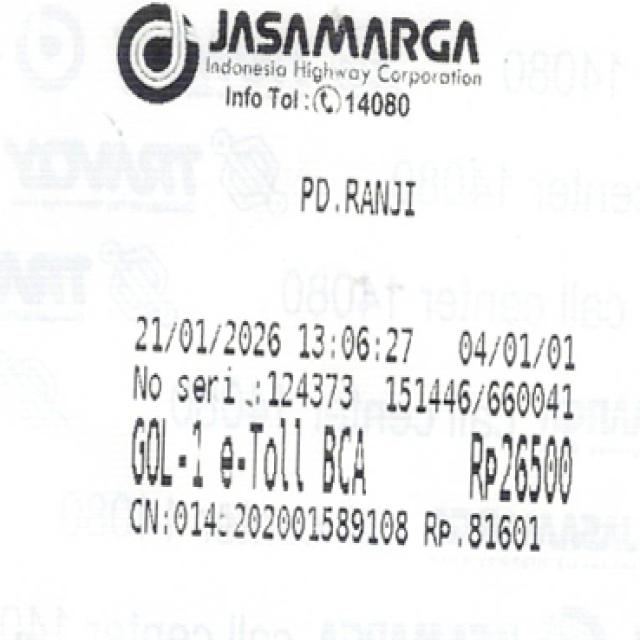date: (130, 314, 416, 364)
store: (208, 7, 485, 87)
total: (456, 421, 578, 512)
